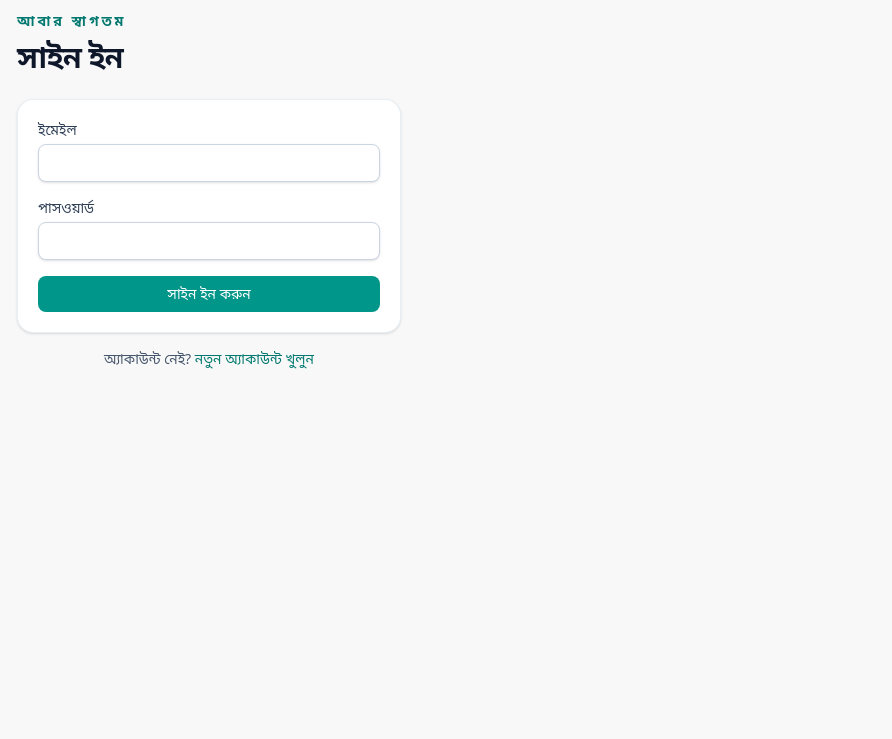
LoginPage in Bangla › confirms in Bangla once signed in
Type "t@e.com" into the field labelled "ইমেইল".
click(209, 163); type("t@e.com")  # box 38,144 -> 380,182
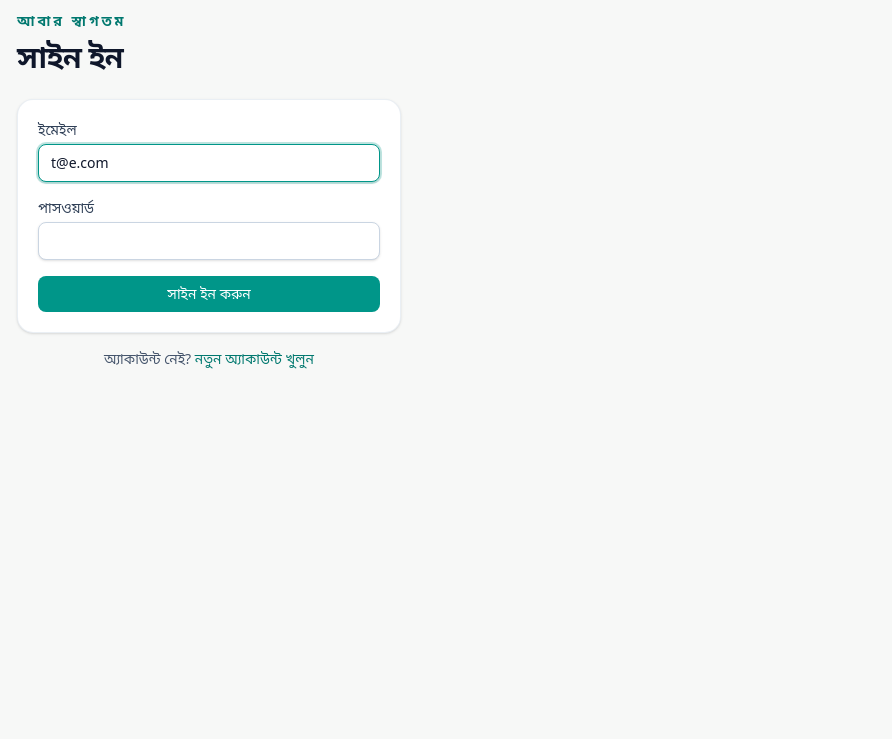
Type "CorrectHorse9" into the password field labelled "পাসওয়ার্ড".
click(209, 241); type("CorrectHorse9")  # box 38,222 -> 380,260
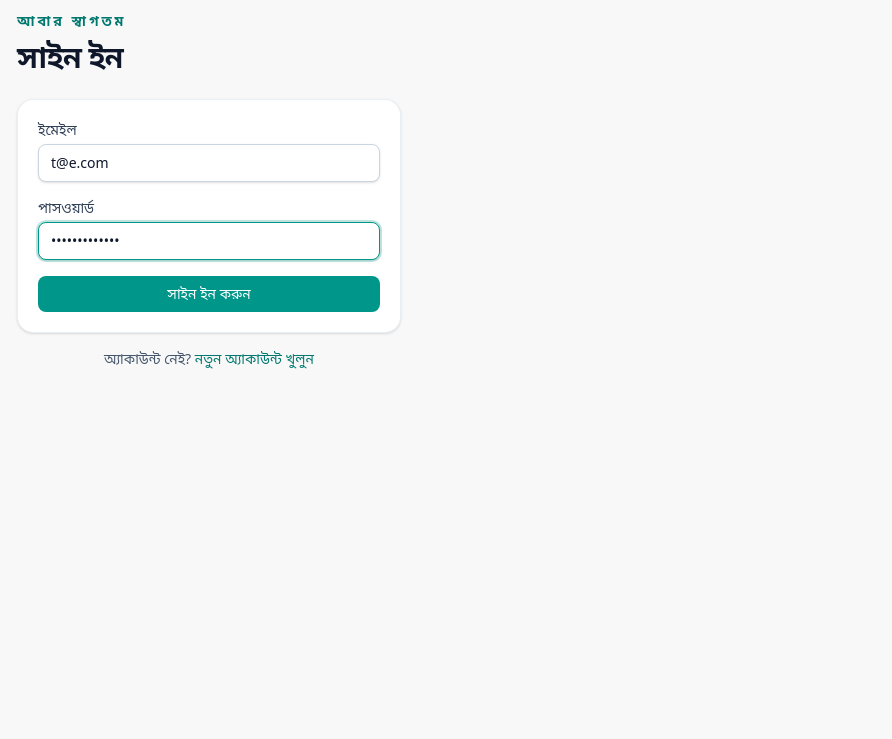
Click the button "সাইন ইন করুন".
click(209, 294)  # box 38,276 -> 380,312
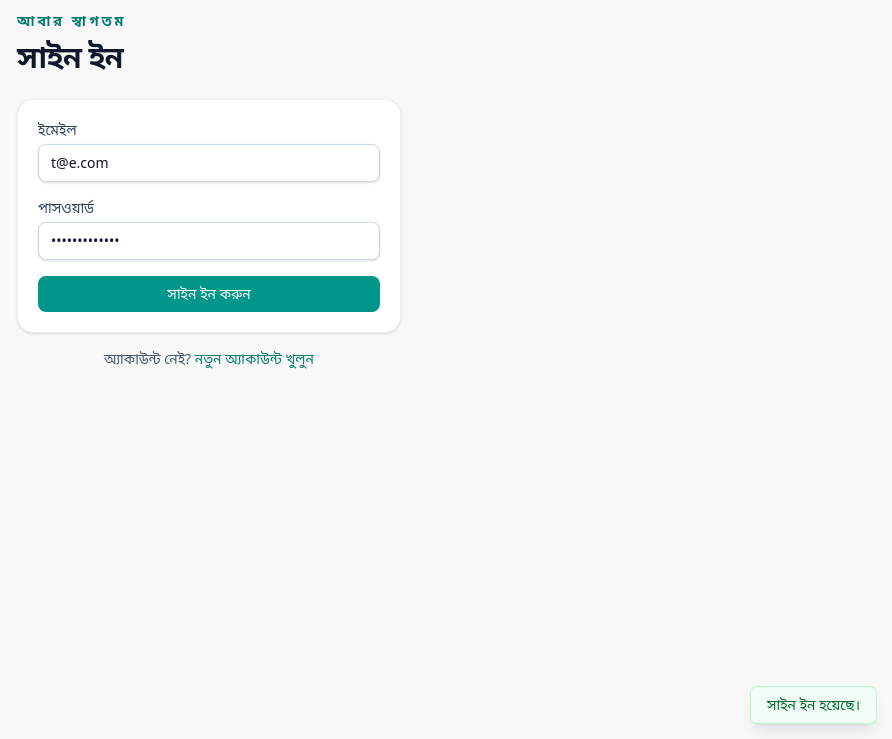
Check: the text "সাইন ইন হয়েছে।" is shown, box 751,687 -> 876,723
